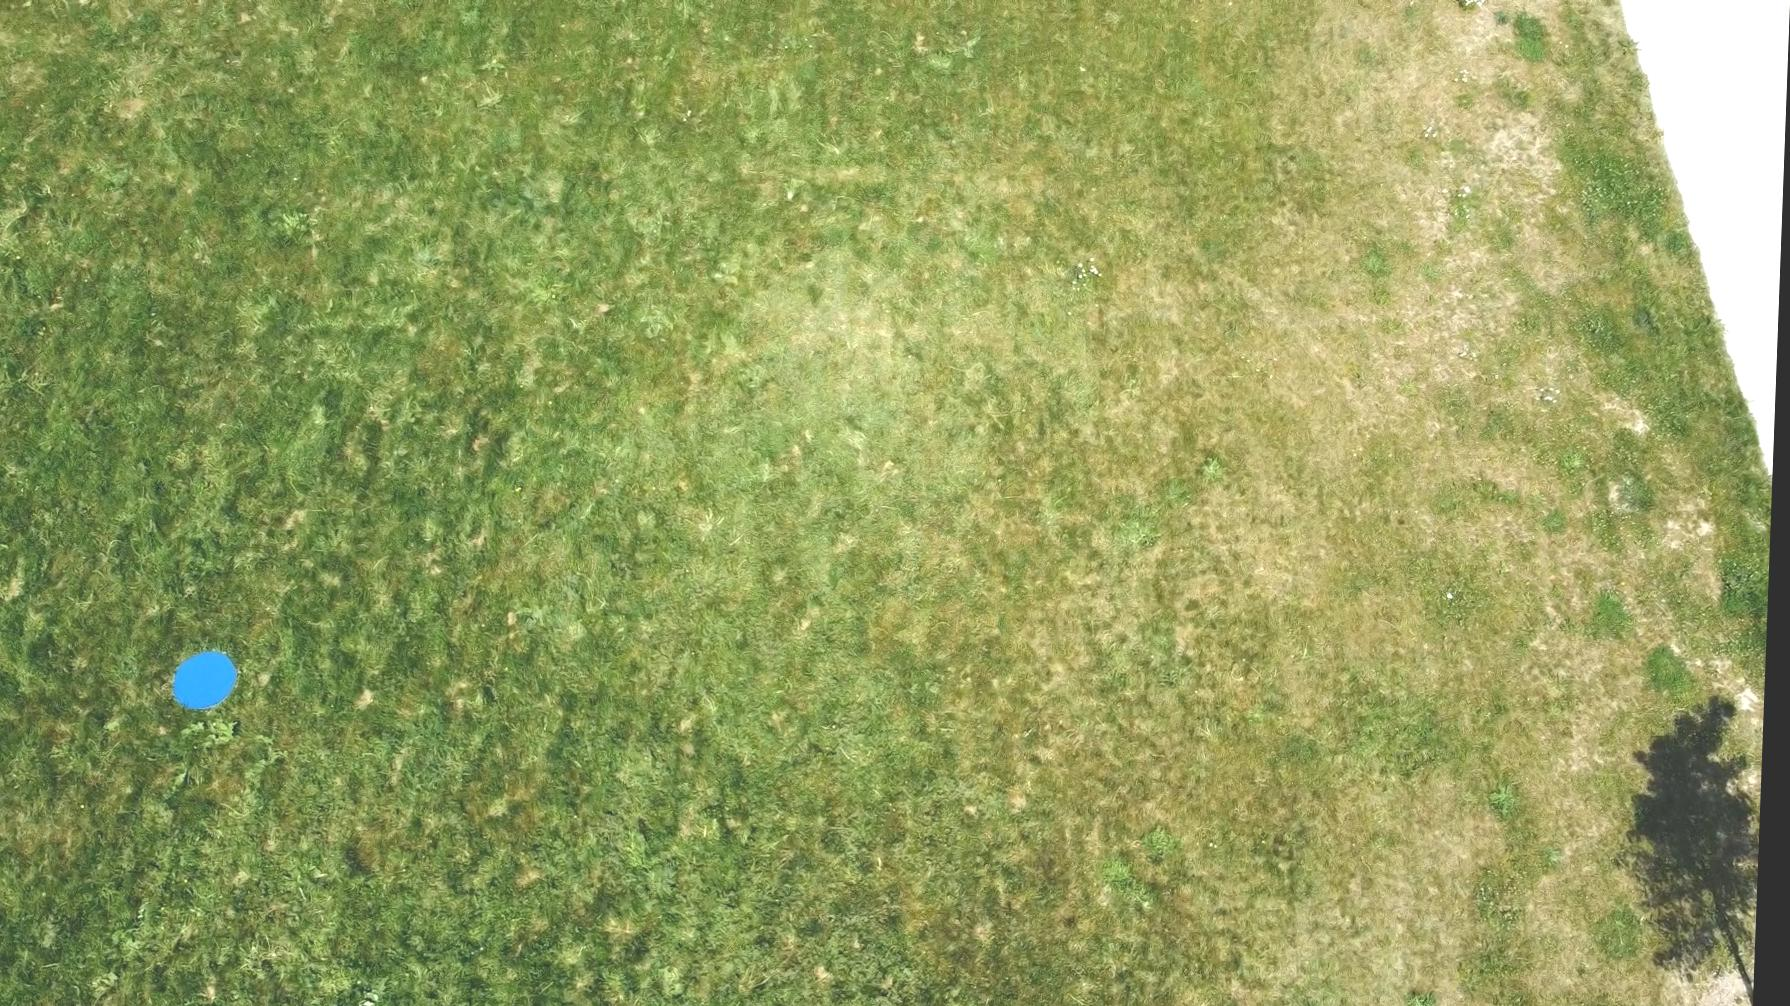Blue: (171, 647, 246, 713)
